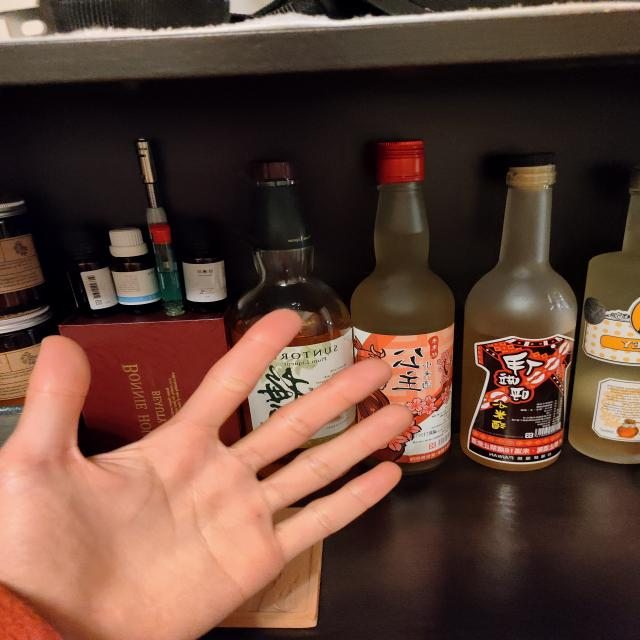no_glove: (0, 283, 432, 640)
